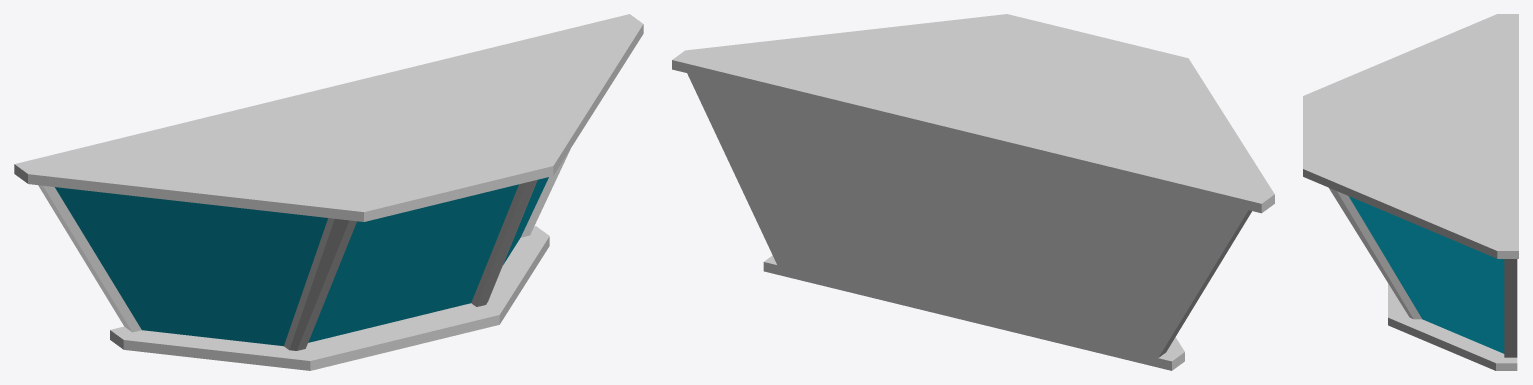
Rendered from observeration_tower_large.fbx.
The picture shows the model from 3 angles, left to right: view 1: azimuth 30°, elevation 25°; view 2: azimuth 150°, elevation 25°; view 3: azimuth 270°, elevation 25°; orthographic projection. The views are drawn at different scales.
Parts seen in each view (by area): view 1: Cube; view 2: Cube; view 3: Cube.
Part boxes in pixels (x1,y1,x2,y2): Cube: (14, 14, 643, 370); Cube: (672, 14, 1274, 370); Cube: (1303, 14, 1518, 370).
Size of the model in its own units: 1300 by 400 by 500.
